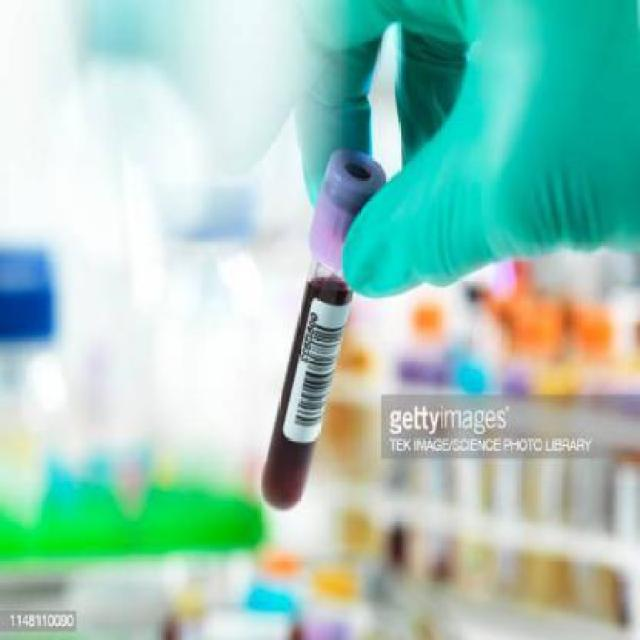Experimental-tube: (262, 150, 386, 512)
